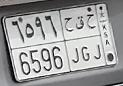J: (63, 17, 80, 65)
